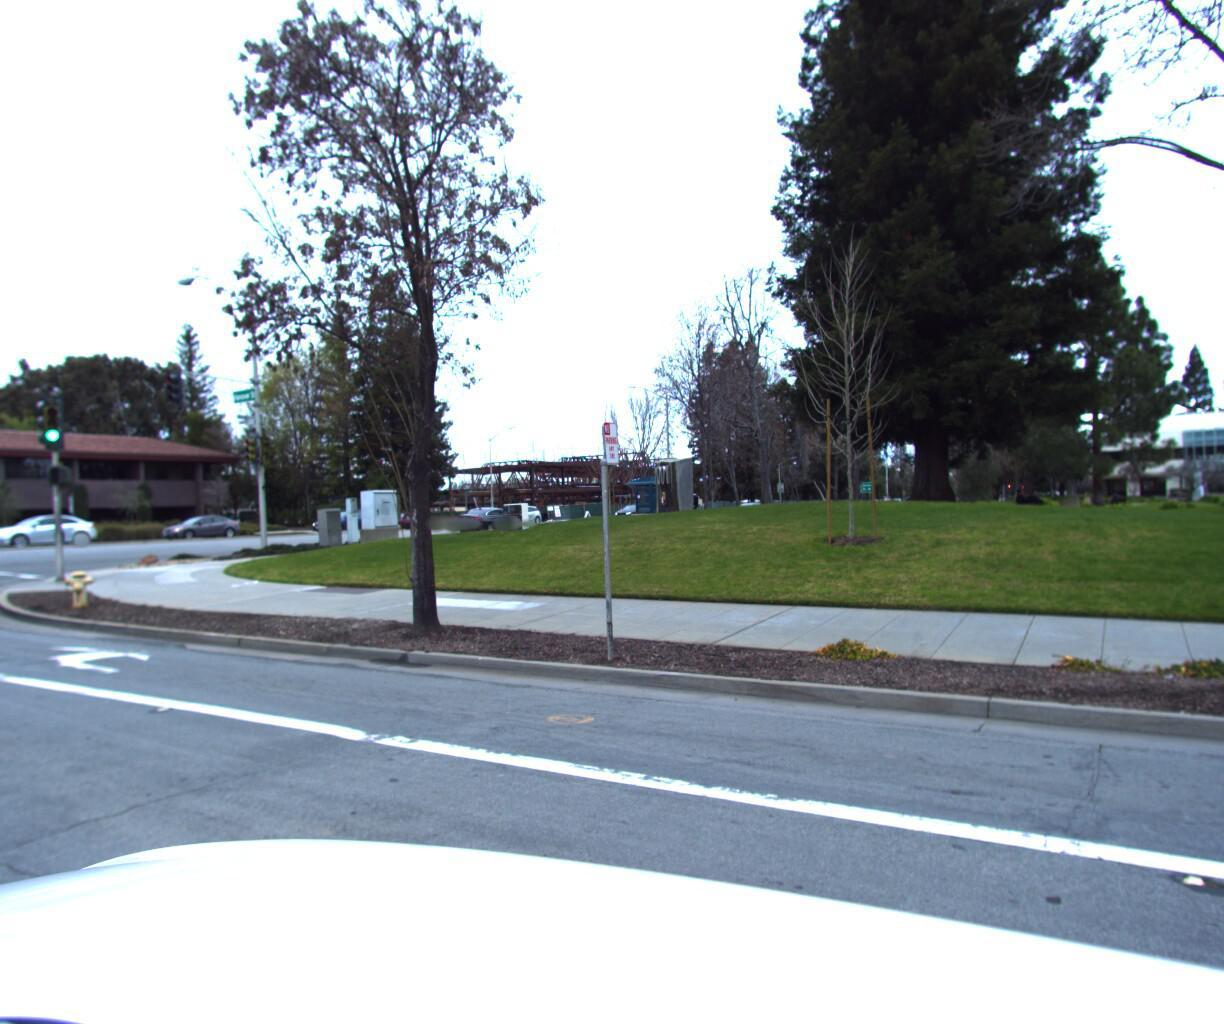car: (0, 513, 102, 547), (157, 508, 248, 540), (451, 502, 529, 532)
